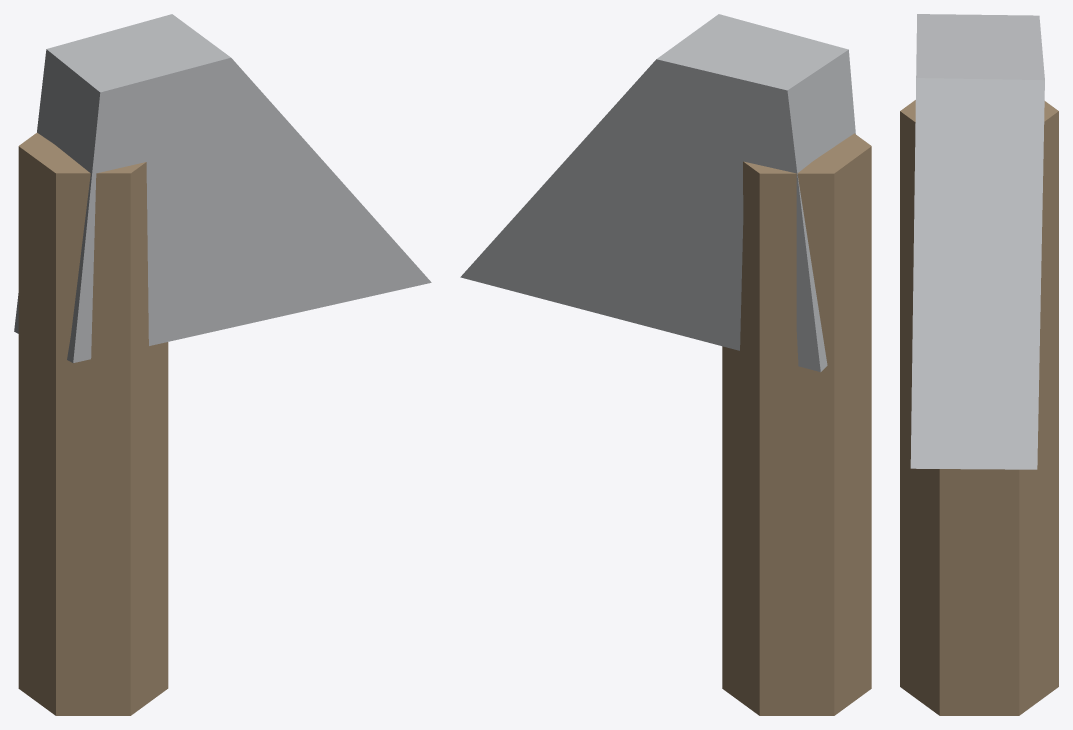
Rendered from throwing_axe.glb.
3 renders of one model, left to right at view 1: azimuth 30°, elevation 25°; view 2: azimuth 150°, elevation 25°; view 3: azimuth 270°, elevation 25°, orthographic. The views are drawn at different scales.
Parts seen in each view (by area): view 1: throwing_axe; view 2: throwing_axe; view 3: throwing_axe.
Boxes of the visible parts, x1=… form: throwing_axe: x1=14, y1=14, x2=431, y2=715; throwing_axe: x1=460, y1=14, x2=871, y2=715; throwing_axe: x1=900, y1=14, x2=1058, y2=715.
Size of the model in its own units: 0.1411 by 0.2309 by 0.05.
